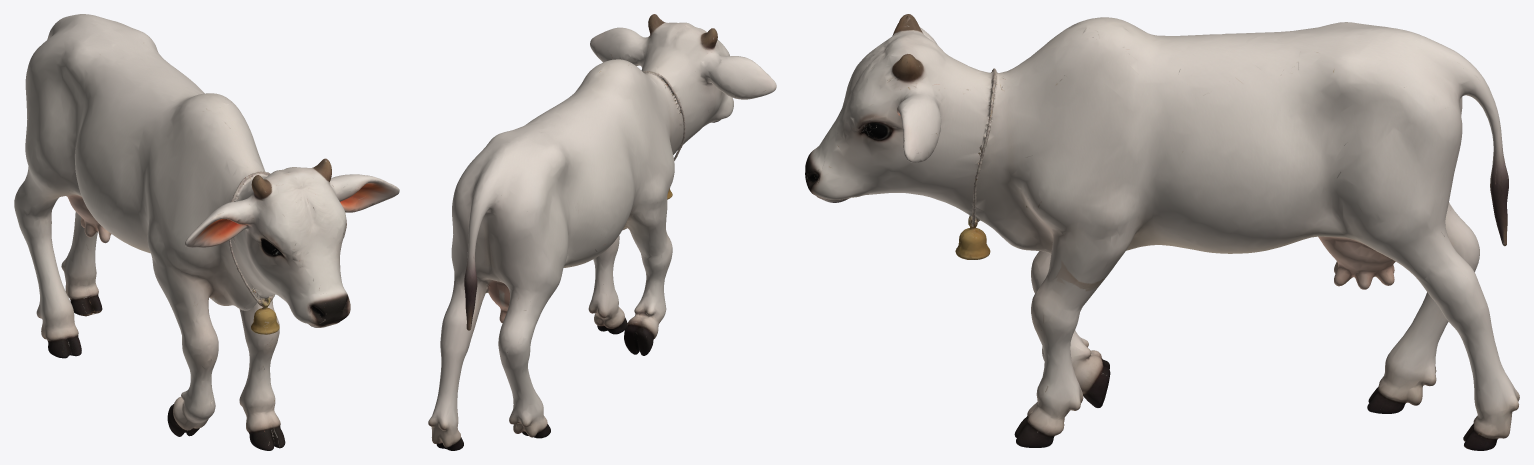
Rendered from littleCow.glb.
The picture shows the model from 3 angles, left to right: view 1: azimuth 30°, elevation 25°; view 2: azimuth 150°, elevation 25°; view 3: azimuth 270°, elevation 25°; orthographic projection. The views are drawn at different scales.
Parts seen in each view (by area): view 1: Mesh1.0; view 2: Mesh1.0; view 3: Mesh1.0.
Boxes of the visible parts, left/top/right/bottom form: Mesh1.0: left=14, top=14, right=399, bottom=450; Mesh1.0: left=428, top=14, right=776, bottom=450; Mesh1.0: left=805, top=14, right=1519, bottom=450.
Size of the model in its own units: 0.7996 by 1.19 by 1.91.
Materials: 1 (1 with a texture image).
